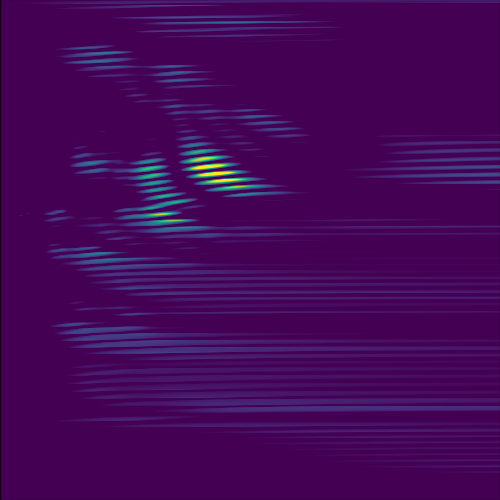semblance: (181, 148, 262, 198)
